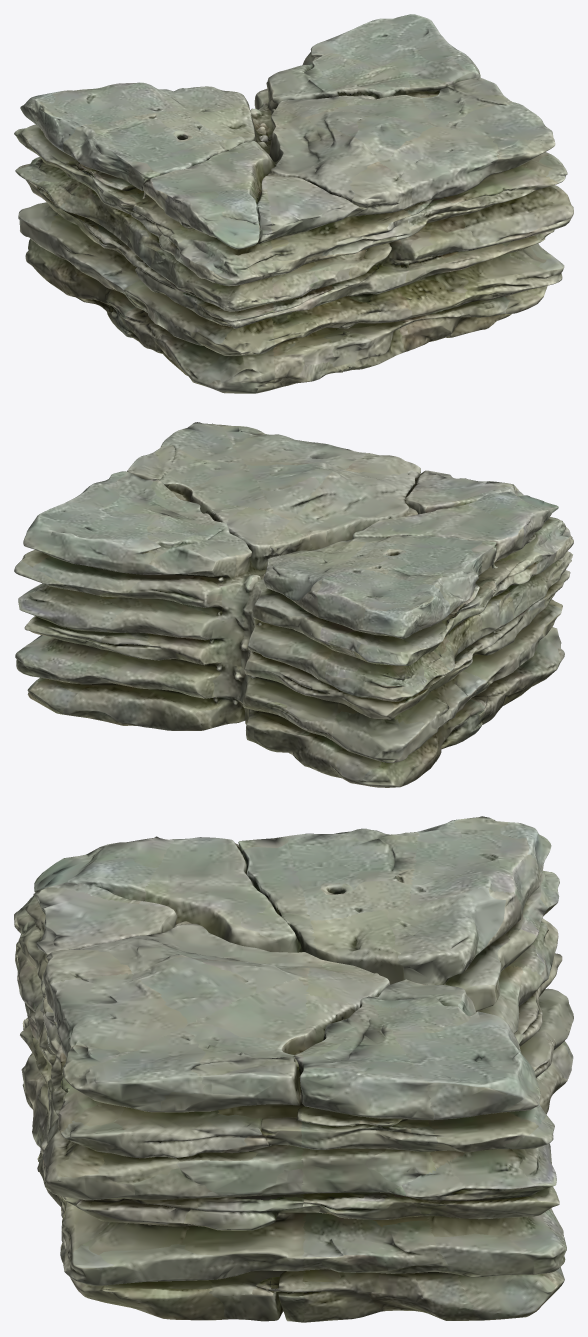
The model's file is Dieshi_14.glb.
3 renders of one model, top to bottom at view 1: azimuth 30°, elevation 25°; view 2: azimuth 150°, elevation 25°; view 3: azimuth 270°, elevation 25°, orthographic. The views are drawn at different scales.
Visible parts, largest first — view 1: tripo_node_eb244df8-b907-4b58-9c1f-3de2eb0bfbfc; view 2: tripo_node_eb244df8-b907-4b58-9c1f-3de2eb0bfbfc; view 3: tripo_node_eb244df8-b907-4b58-9c1f-3de2eb0bfbfc.
Boxes of the visible parts, bbox=[...] form: tripo_node_eb244df8-b907-4b58-9c1f-3de2eb0bfbfc: bbox=[14, 14, 573, 393]; tripo_node_eb244df8-b907-4b58-9c1f-3de2eb0bfbfc: bbox=[14, 422, 573, 787]; tripo_node_eb244df8-b907-4b58-9c1f-3de2eb0bfbfc: bbox=[14, 816, 573, 1322].
Size of the model in its own units: 0.9804 by 0.4461 by 0.8591.
Materials: 1 (1 with a texture image).
